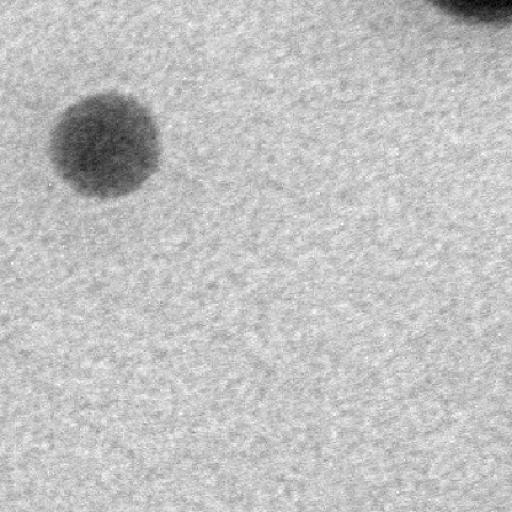Nanoparticles: (48, 91, 162, 199), (430, 0, 510, 26)
